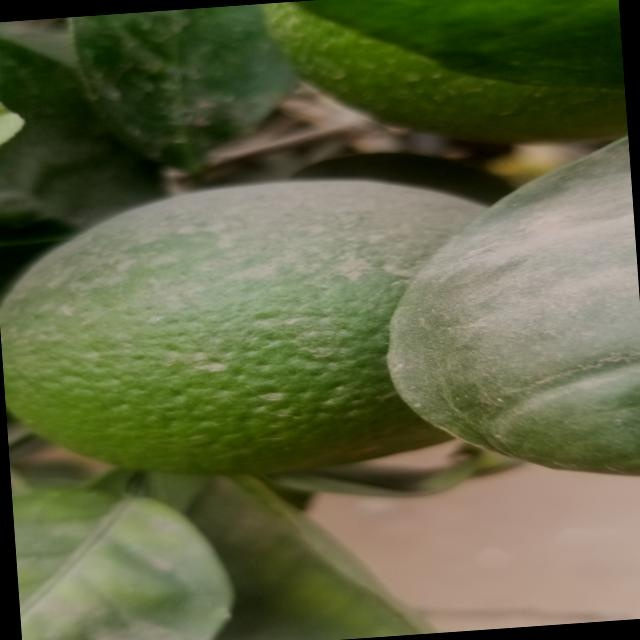agrume: (0, 151, 572, 502)
